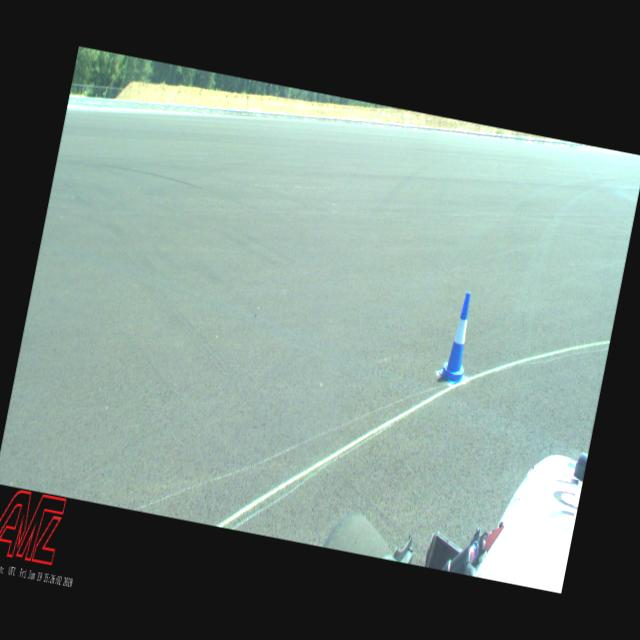blue_cone: (437, 289, 482, 386)
